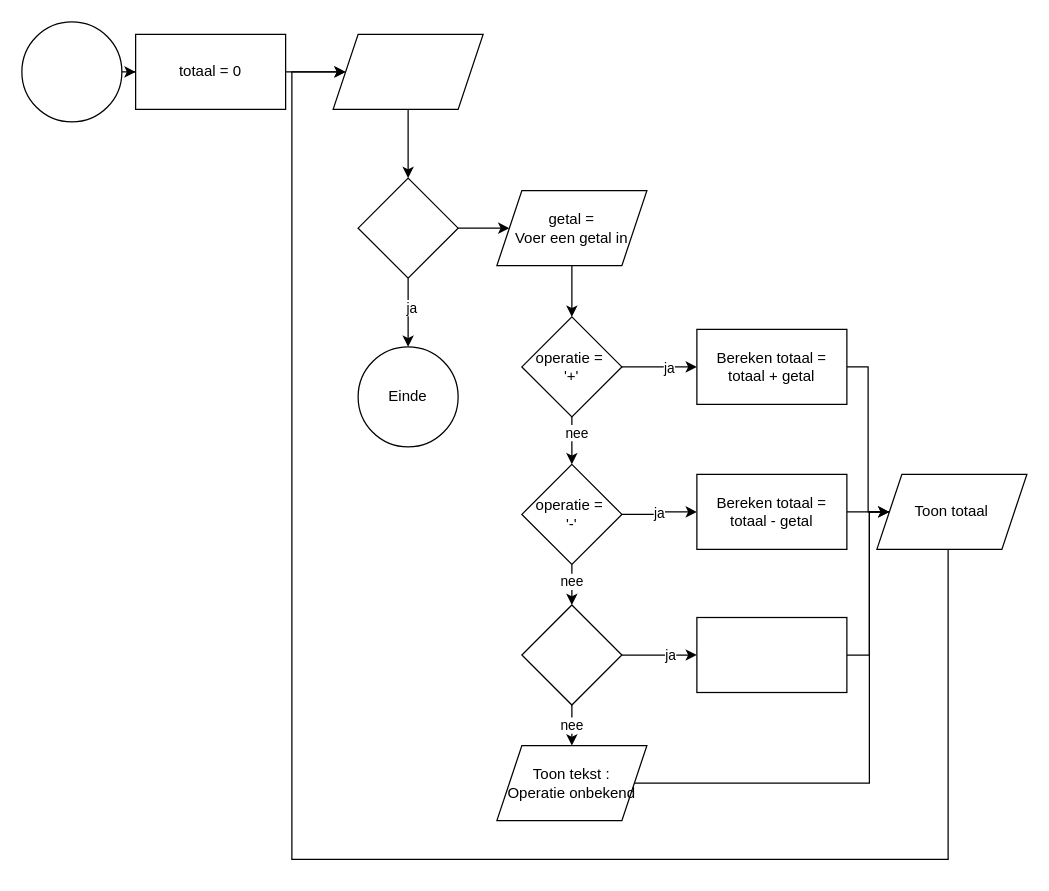
Image size: 1049x891. Some labels were removed from this diagram. Here are the shapes that lost their labels. From the top down, the box of each, then its label:
(21, 21, 122, 122): Start
(332, 33, 483, 109): Voer operatie in : + - * of =
(357, 177, 458, 278): operatie = '='
(521, 604, 622, 705): operatie = '*'
(696, 616, 847, 692): Bereken totaal = totaal * getal
